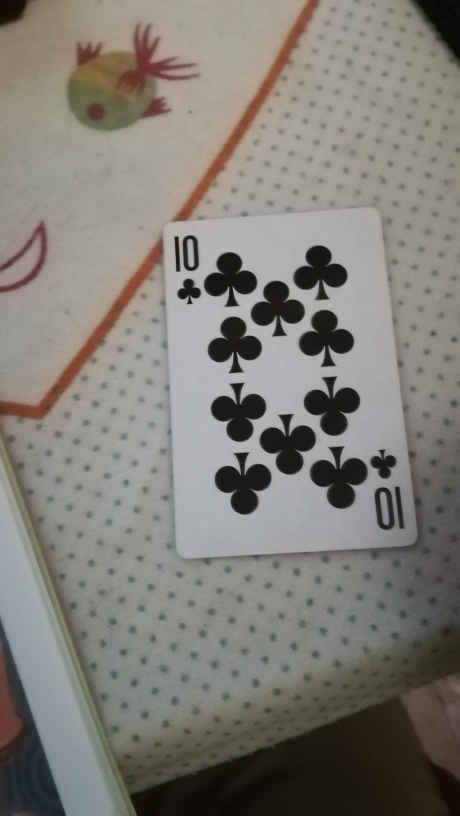mh 10: (158, 206, 418, 559)
